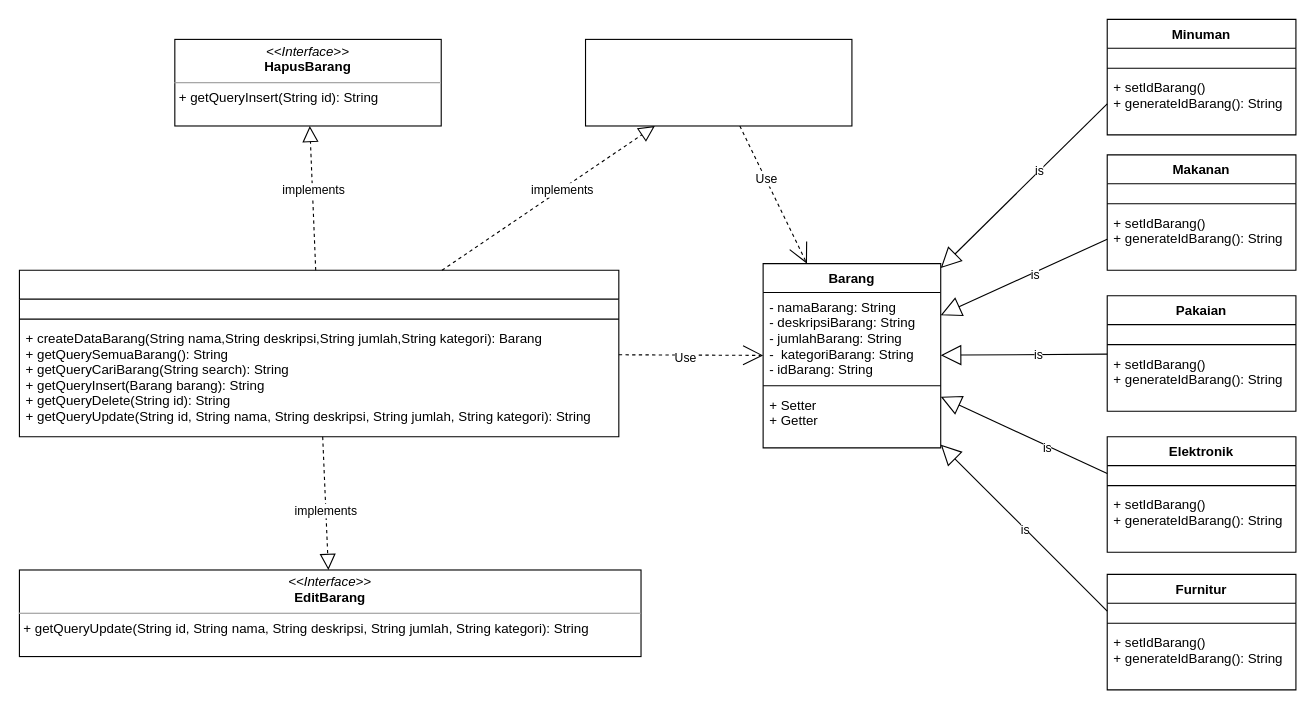
Image size: 1315x713. Some labels were removed from this diagram. The box of each missing label's shape, as (x1, y1, x2, y2) in pixels:
<<Interface>> TambahBarang + getQueryInsert(Barang barang): String: (584, 38, 852, 126)
MainMenu: (18, 269, 619, 437)
